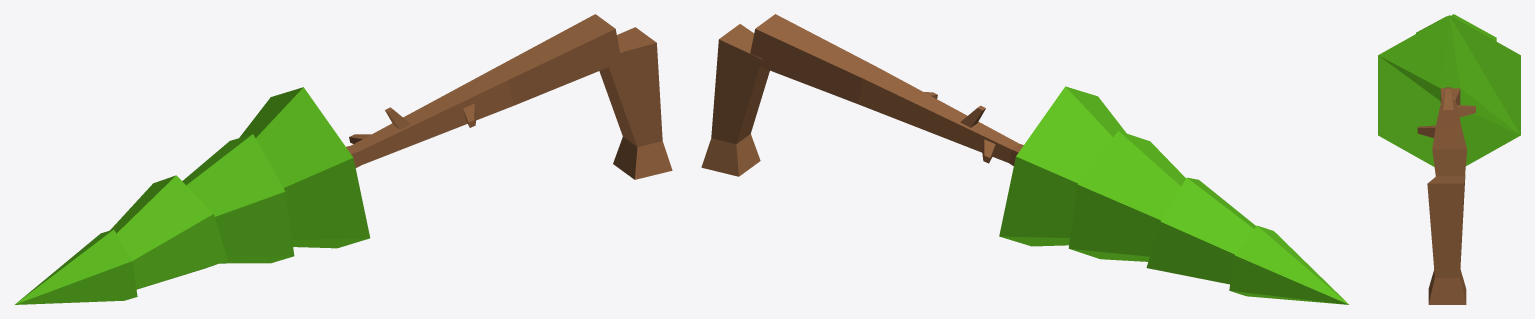
File: FallenTree.fbx
3 renders of one model, left to right at view 1: azimuth 30°, elevation 25°; view 2: azimuth 150°, elevation 25°; view 3: azimuth 270°, elevation 25°, orthographic. The views are drawn at different scales.
Visible parts, largest first — view 1: tree_pineTallC_detailed; view 2: tree_pineTallC_detailed; view 3: tree_pineTallC_detailed.
Part boxes in pixels (x1,y1,x2,y2): tree_pineTallC_detailed: (15,14,672,304); tree_pineTallC_detailed: (701,14,1348,304); tree_pineTallC_detailed: (1378,14,1520,304).
Bounding box in the file's own units: 2541 × 638 × 565.
